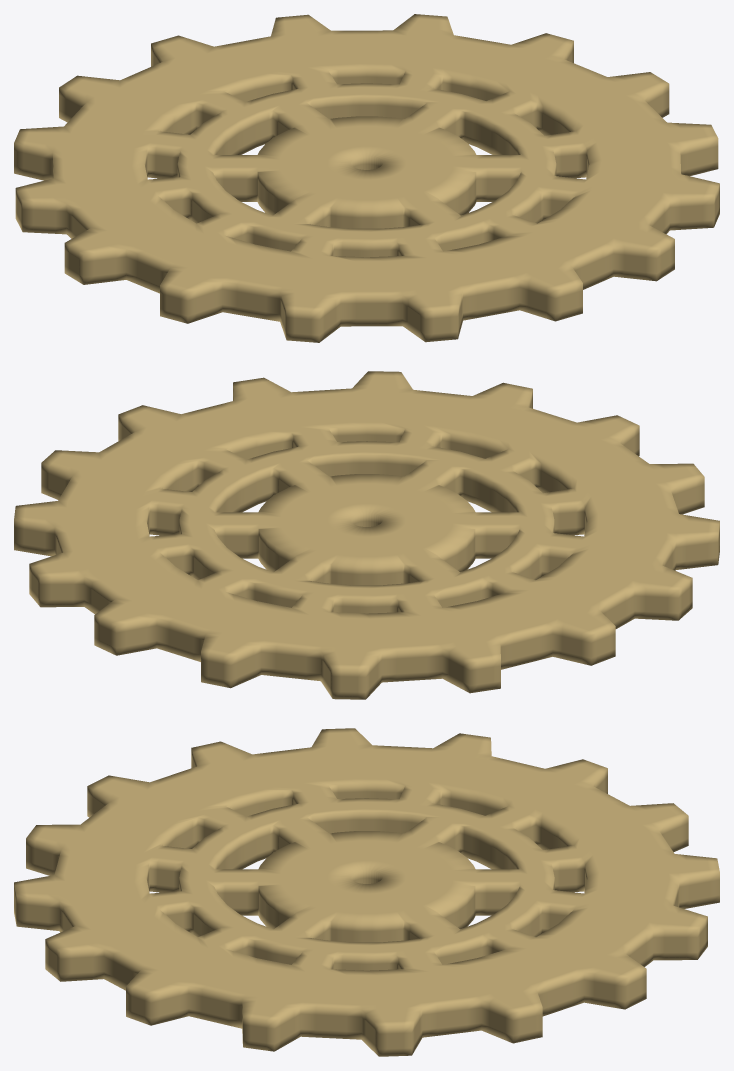
Rendered from gearBigB.fbx.
3 renders of one model, top to bottom at view 1: azimuth 30°, elevation 25°; view 2: azimuth 150°, elevation 25°; view 3: azimuth 270°, elevation 25°, orthographic.
Visible parts, largest first — view 1: gearBigB.000; view 2: gearBigB.000; view 3: gearBigB.000.
Part boxes in pixels (x1=…): gearBigB.000: x1=14, y1=14, x2=719, y2=342; gearBigB.000: x1=14, y1=371, x2=719, y2=699; gearBigB.000: x1=14, y1=728, x2=719, y2=1056.
Bounding box in the file's own units: 4.22 × 0.2 × 4.22.
